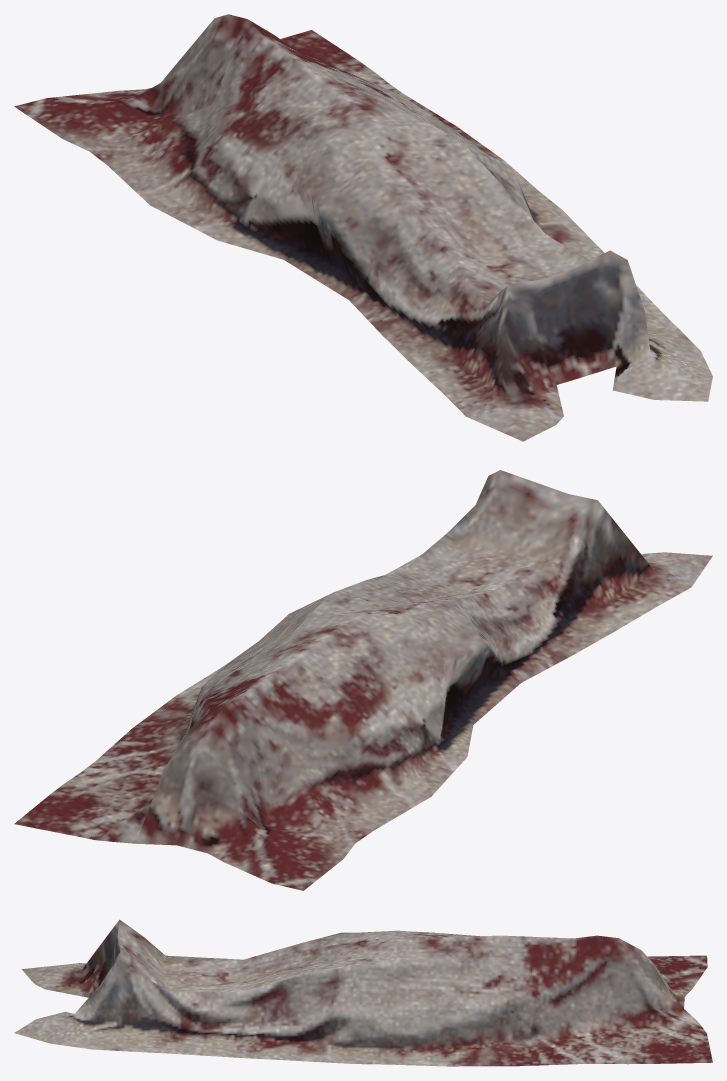
Rendered from low_poly_covered_corpse.glb.
3 renders of one model, top to bottom at view 1: azimuth 30°, elevation 25°; view 2: azimuth 150°, elevation 25°; view 3: azimuth 270°, elevation 25°, orthographic. The views are drawn at different scales.
Visible parts, largest first — view 1: dn_body1; view 2: dn_body1; view 3: dn_body1.
Boxes of the visible parts, bbox=[...] form: dn_body1: bbox=[14, 14, 712, 441]; dn_body1: bbox=[14, 470, 712, 890]; dn_body1: bbox=[14, 919, 712, 1066].
Size of the model in its own units: 75 by 23.95 by 200.
Materials: 1 (1 with a texture image).
